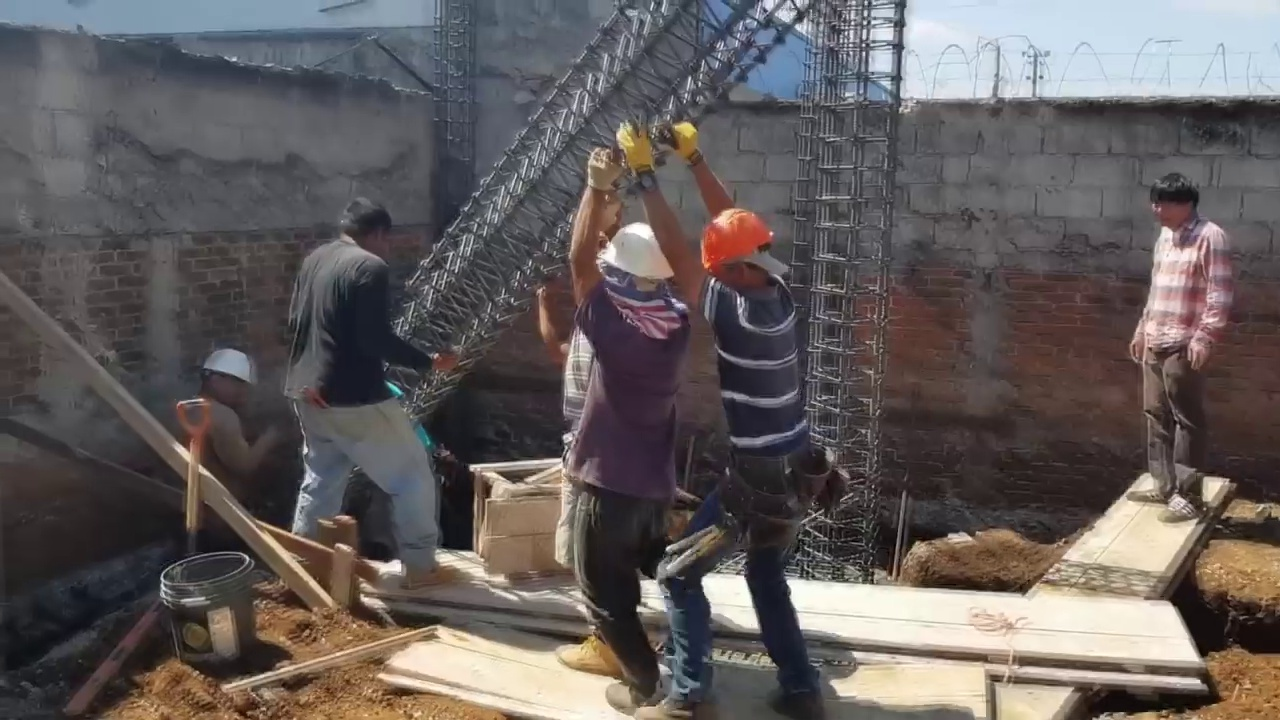helmet: (598, 218, 675, 280), (698, 212, 778, 270), (200, 349, 259, 387)
helmet-off: (337, 201, 401, 257), (1157, 174, 1210, 234)
helmet-on: (592, 218, 674, 318), (697, 211, 781, 298), (198, 349, 261, 416)
person: (618, 121, 844, 720), (559, 150, 706, 710), (286, 188, 445, 605), (1131, 175, 1232, 530), (181, 347, 288, 497)
